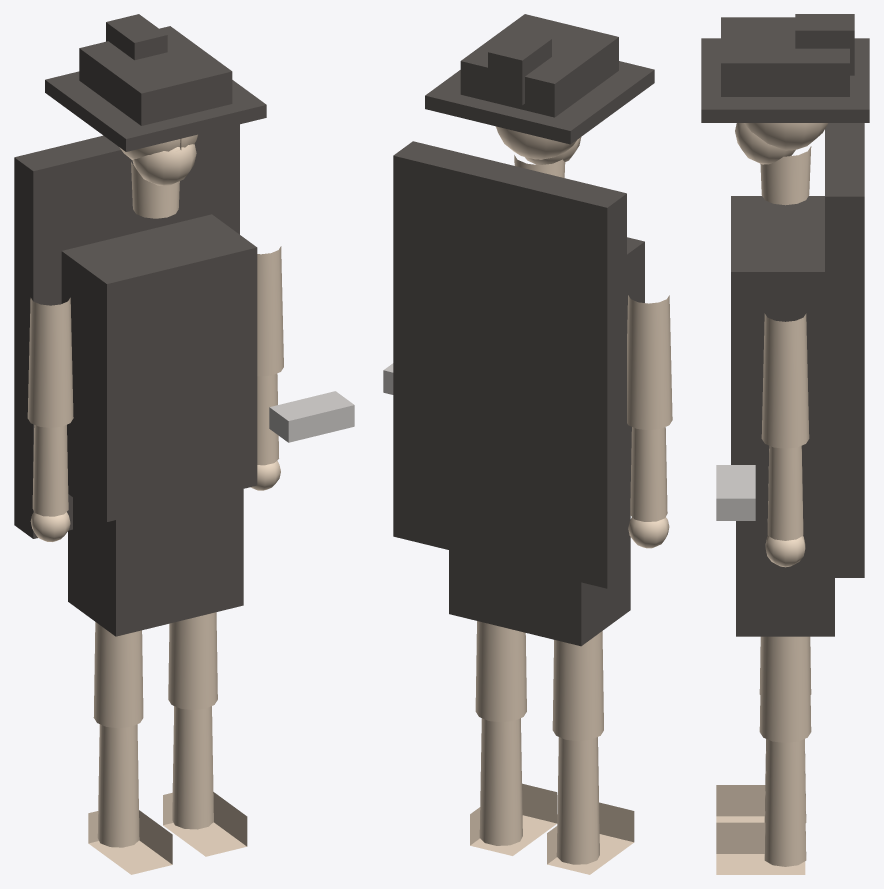
File: body.glb
3 views of the same model, side by side, from view 1: azimuth 30°, elevation 25°; view 2: azimuth 150°, elevation 25°; view 3: azimuth 270°, elevation 25° (orthographic). The views are drawn at different scales.
Visible parts, largest first — view 1: Cloth, Skin, Metal; view 2: Cloth, Skin; view 3: Cloth, Skin, Metal.
Part boxes in pixels (<box>): Cloth: <box>14,14,266,636</box>; Skin: <box>27,134,283,874</box>; Metal: <box>269,391,354,442</box>; Cloth: <box>393,14,654,646</box>; Skin: <box>470,126,672,874</box>; Cloth: <box>701,14,869,636</box>; Skin: <box>716,123,828,874</box>; Metal: <box>716,465,755,520</box>.
Bounding box in the file's own units: 0.7025 × 1.83 × 0.34.
